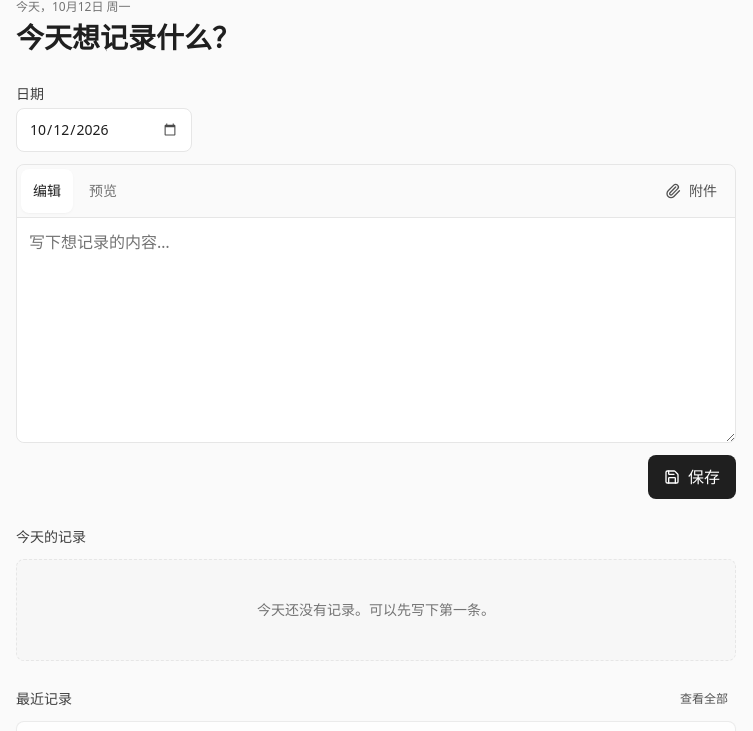
Scenario: HomePage › lists loaded records and creates a new one
Expected: the heading "今天想记录什么？" is shown, [16,18,240,56]
In the text box: (376, 330) [17,218,735,442], type "新建的记录"
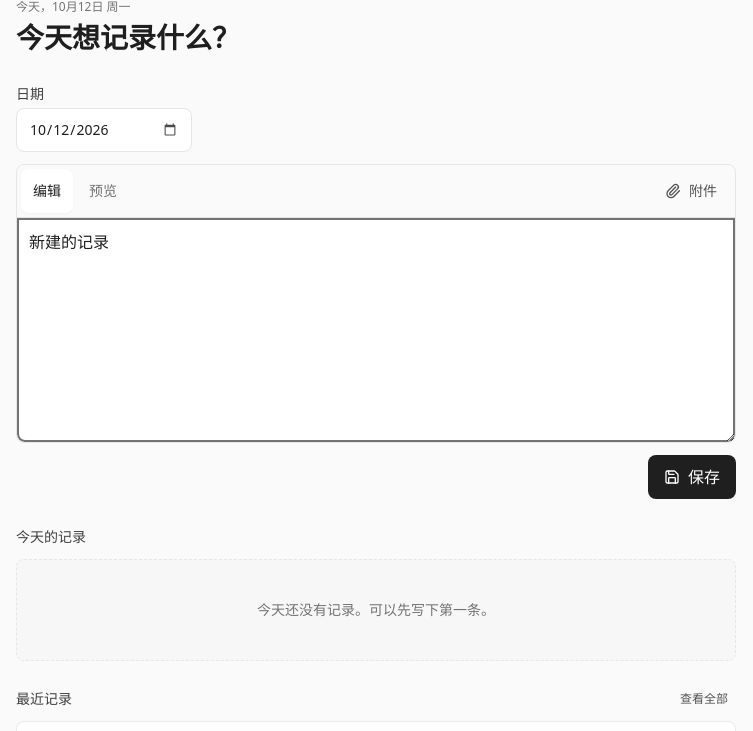
Click the button "保存": click(692, 477) [648,455,736,499]
(page scrolled)
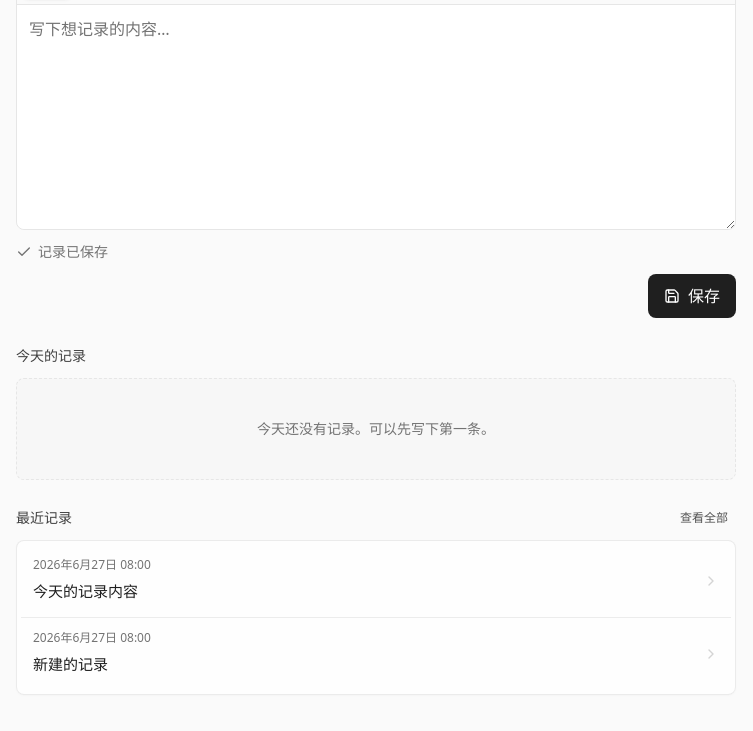
Result: the text "新建的记录" is shown at [33,654,108,674]
